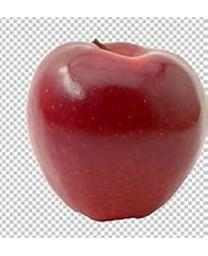apple: (23, 38, 205, 221)
